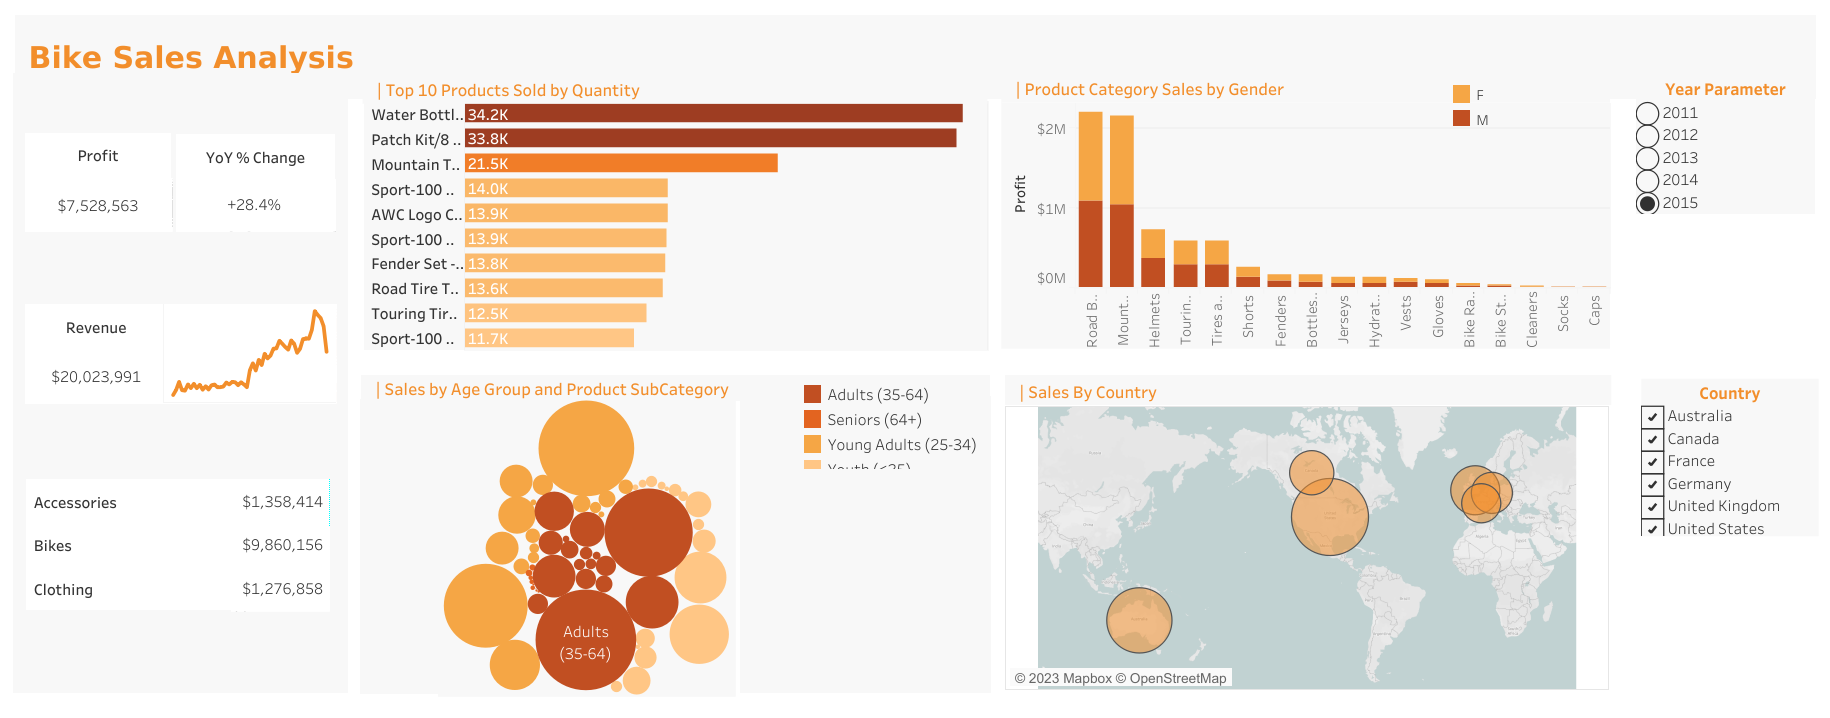

The dashboard page shown, as its layout file describes it:
{"tool":"tableau","page":{"name":"Sales Dashboard","canvas":[1000,1000],"units":"permille","ordinal":0},"visuals":[{"type":"title","box":[4.9,9.3,990.2,87.1]},{"type":"text","box":[197.9,103.4,341.2,41.8]},{"type":"text","box":[547.1,103.4,332.1,39.5]},{"type":"parameter","param":"[Parameters].[Parameter 1]","box":[893.8,104.5,97.2,192.8]},{"type":"legend","title":"SubCategory Bar Chart","param":"[federated.0gcj31602u4f0r16oxvj41pxij6p].[none:Customer_Gender:nk]","box":[791.1,113.8,85,61.6]},{"type":"worksheet","title":"Top 10 Products","mark":"Bar","rows":["Product"],"box":[198.5,141.7,341.2,347.3]},{"type":"worksheet","title":"SubCategory Bar Chart","mark":"Automatic","rows":["Profit"],"cols":["Sub_Category"],"box":[547.1,142.9,332.1,344.9]},{"type":"worksheet","title":"Profit Card","mark":"Automatic","cols":["Calculation_732960844400586754"],"box":[13.4,184.7,80.2,134.7]},{"type":"worksheet","title":"YoY % Change","mark":"Automatic","cols":["Calculation_732960844404006920"],"box":[95.9,185.8,87.4,133.6]},{"type":"worksheet","title":"Revenue Card","mark":"Automatic","cols":["Calculation_732960844407107593"],"box":[13.4,422.8,78.9,138.2]},{"type":"worksheet","title":"Revenue Line Chart","mark":"Automatic","rows":["Revenue"],"cols":["Date"],"box":[88.7,422.8,94.1,137.1]},{"type":"text","box":[197.3,521.5,343.1,36]},{"type":"text","box":[548.9,521.5,330.7,41.8]},{"type":"filter","title":"Age Group By Bubble Chart","param":"[federated.0gcj31602u4f0r16oxvj41pxij6p].[none:Country:nk]","box":[896.2,526.1,97.2,219.5]},{"type":"legend","title":"Age Group By Bubble Chart","param":"[federated.0gcj31602u4f0r16oxvj41pxij6p].[none:Age_Group:nk]","box":[436.6,529.6,106.9,123.1]},{"type":"worksheet","title":"Age Group By Bubble Chart","mark":"Circle","box":[239.2,555.2,355.8,412.3]},{"type":"worksheet","title":"Map","mark":"Automatic","box":[548.9,564.5,330.3,397.2]},{"type":"worksheet","title":"Cost Cards","mark":"Automatic","rows":["Product_Category"],"box":[14.6,665.5,165.2,183.5]}]}

Visuals, with their boxes on the dashboard's canvas, which has no fixed pixel size, in thousandths of its width and height (x1, y1, x2, y2). These are canvas units, not pixel positions in the 1830x718 screenshot, which may show the page scaled, cropped or inside an application window:
title: (5, 9, 995, 96)
text: (198, 103, 539, 145)
text: (547, 103, 879, 143)
parameter: (894, 104, 991, 297)
"SubCategory Bar Chart" legend: (791, 114, 876, 175)
"Top 10 Products" worksheet (Bar marks): (198, 142, 540, 489)
"SubCategory Bar Chart" worksheet: (547, 143, 879, 488)
"Profit Card" worksheet: (13, 185, 94, 319)
"YoY % Change" worksheet: (96, 186, 183, 319)
"Revenue Card" worksheet: (13, 423, 92, 561)
"Revenue Line Chart" worksheet: (89, 423, 183, 560)
text: (197, 522, 540, 558)
text: (549, 522, 880, 563)
"Age Group By Bubble Chart" filter: (896, 526, 993, 746)
"Age Group By Bubble Chart" legend: (437, 530, 544, 653)
"Age Group By Bubble Chart" worksheet (Circle marks): (239, 555, 595, 968)
"Map" worksheet: (549, 564, 879, 962)
"Cost Cards" worksheet: (15, 666, 180, 849)
